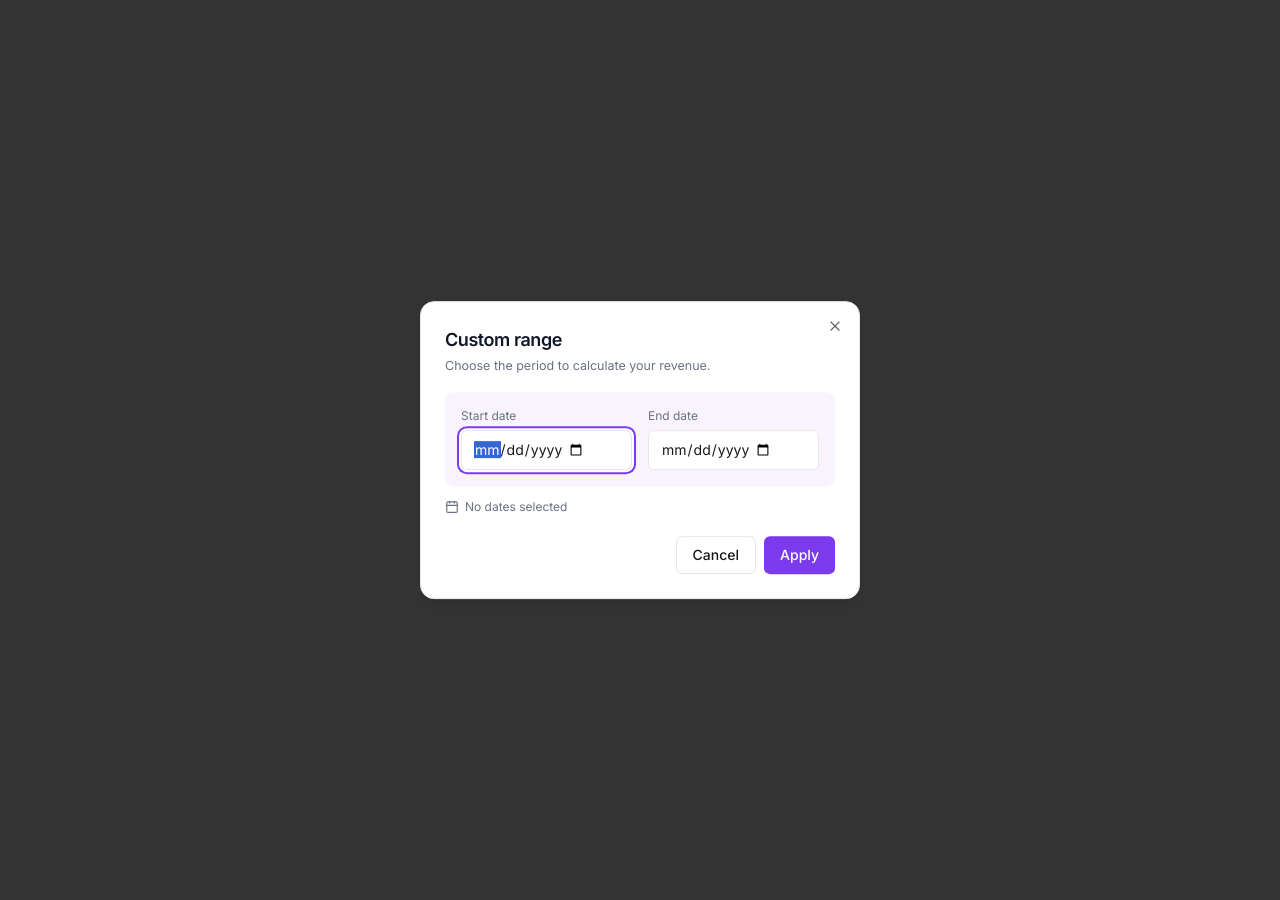
it: CustomRangeModal › walks the summary line from empty to half picked to a complete range
This screenshot has width=1280, height=900.
Expected: the text "No dates selected" is shown, x1=465 y1=498 x2=568 y2=516
Step 1. Type "2024-01-05" into the date field labelled "Start date" → (546, 450), box x1=461 y1=430 x2=632 y2=470
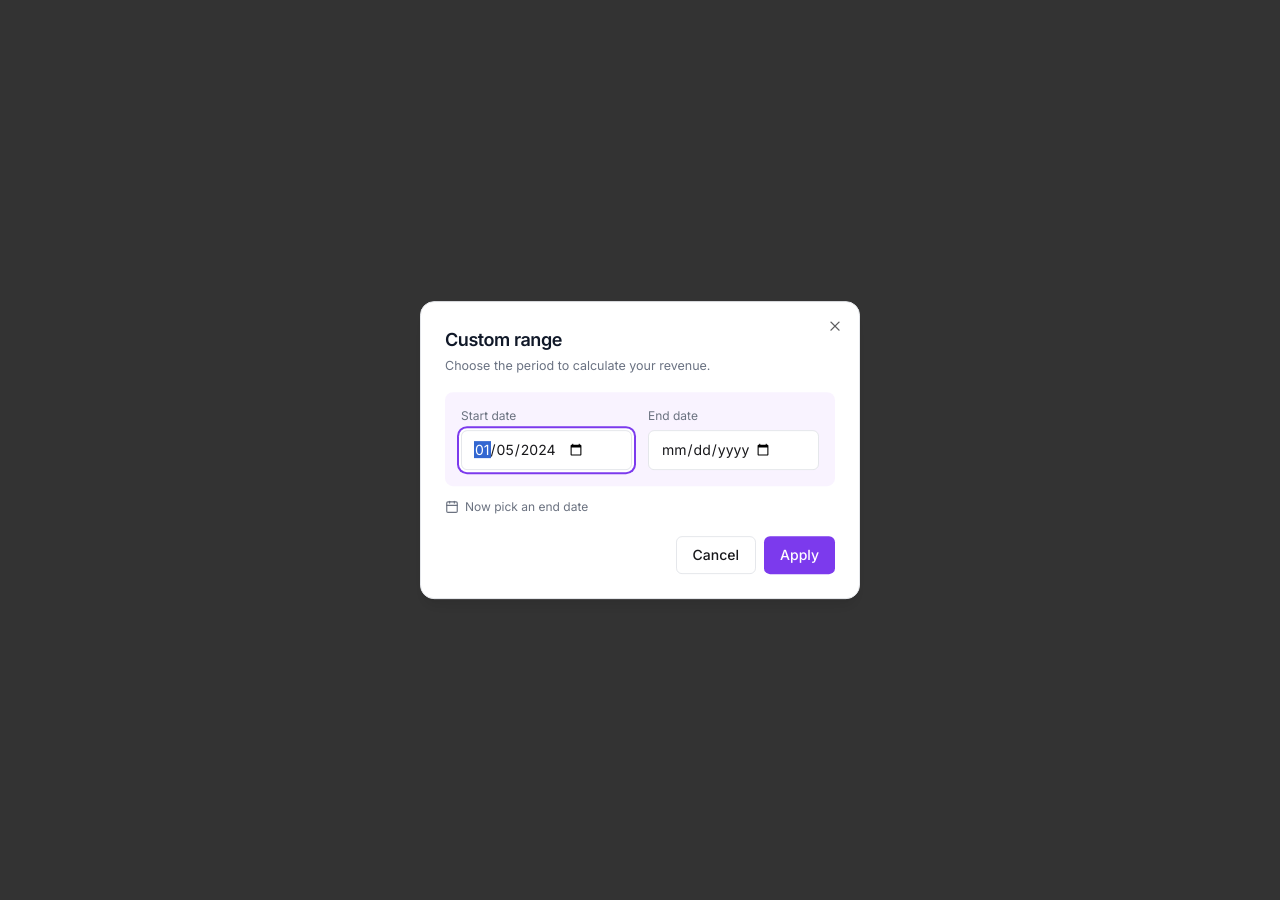
Result: the text "Now pick an end date" is shown at x1=465 y1=498 x2=588 y2=516
Step 2. Type "2024-01-20" into the date field labelled "End date" → (734, 450), box x1=648 y1=430 x2=819 y2=470
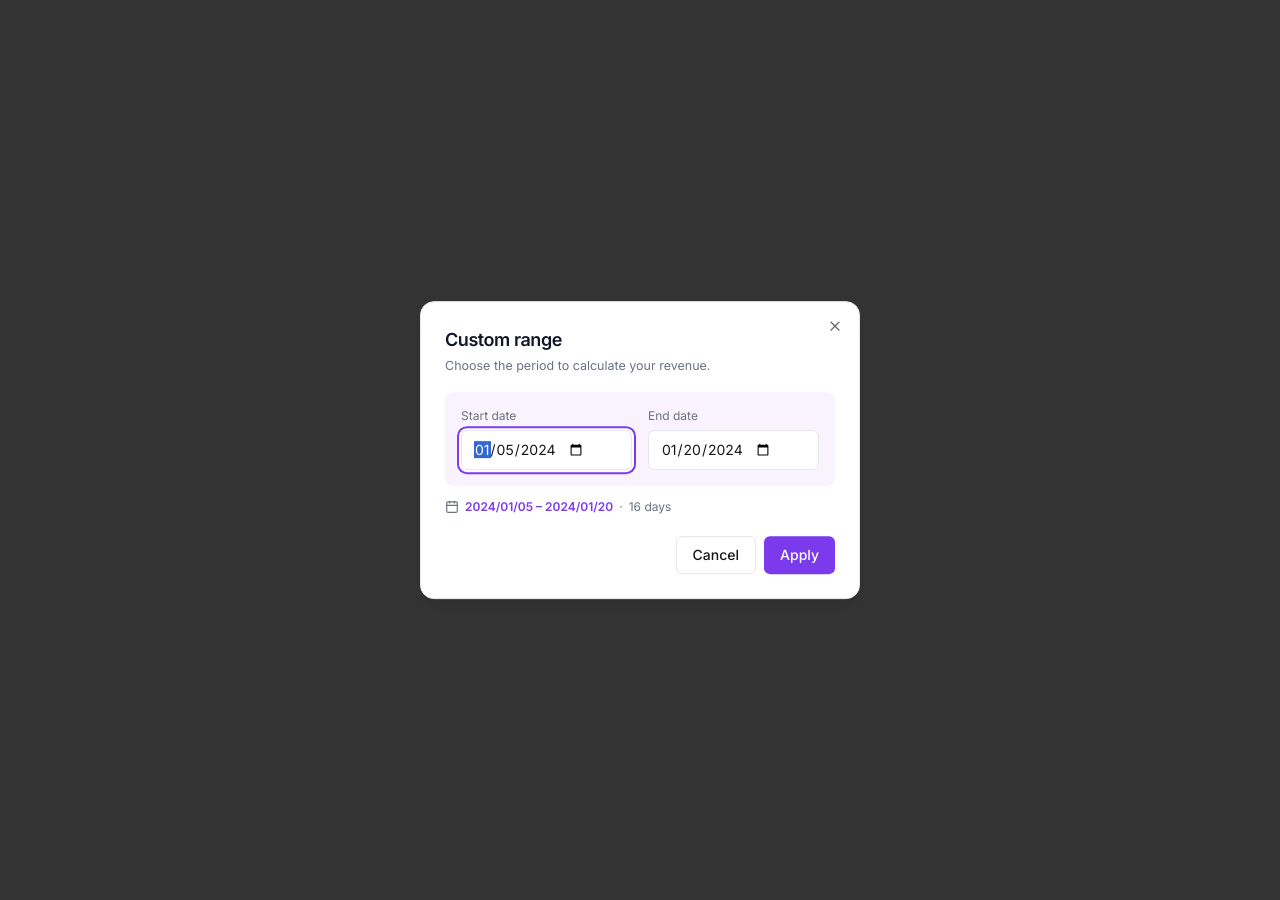
Result: the text "Now pick an end date" is gone
Result: the text "16 days" is shown at x1=629 y1=498 x2=671 y2=516
